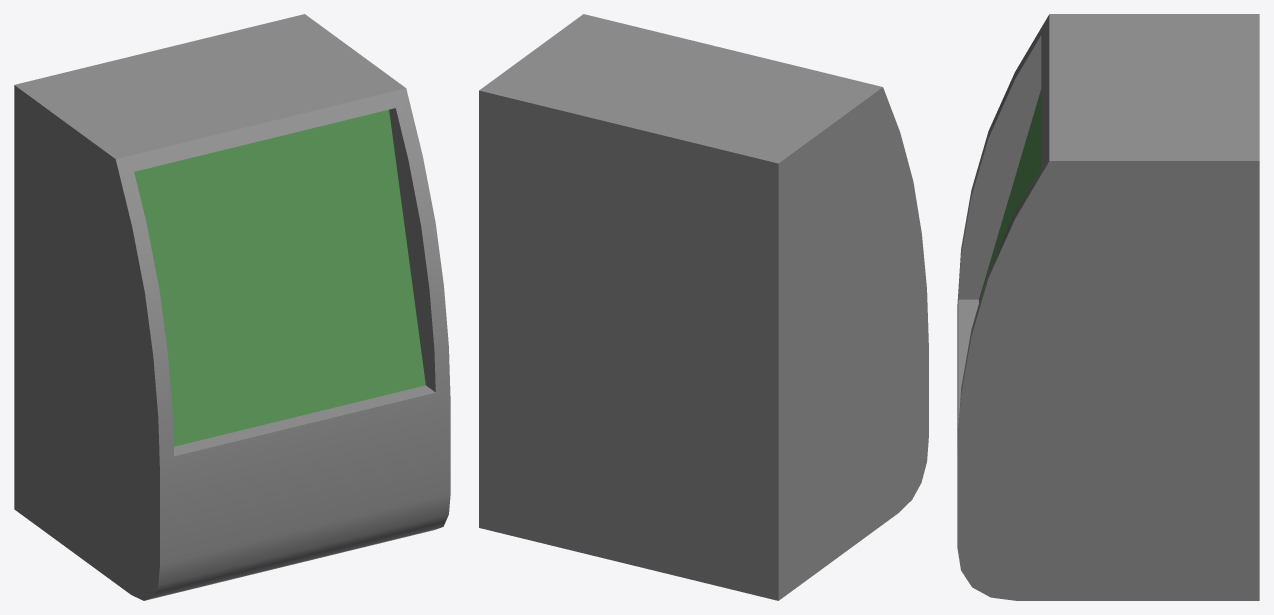
Rendered from Door_Keypad.FBX.
3 renders of one model, left to right at view 1: azimuth 30°, elevation 25°; view 2: azimuth 150°, elevation 25°; view 3: azimuth 270°, elevation 25°, orthographic. The views are drawn at different scales.
Visible parts, largest first — view 1: KeyPad; view 2: KeyPad; view 3: KeyPad.
Boxes of the visible parts, x1,y1,x2,y2 form: KeyPad: (14, 14, 450, 600); KeyPad: (479, 14, 928, 600); KeyPad: (957, 14, 1259, 600).
Size of the model in its own units: 9.06 by 12.64 by 7.87.
